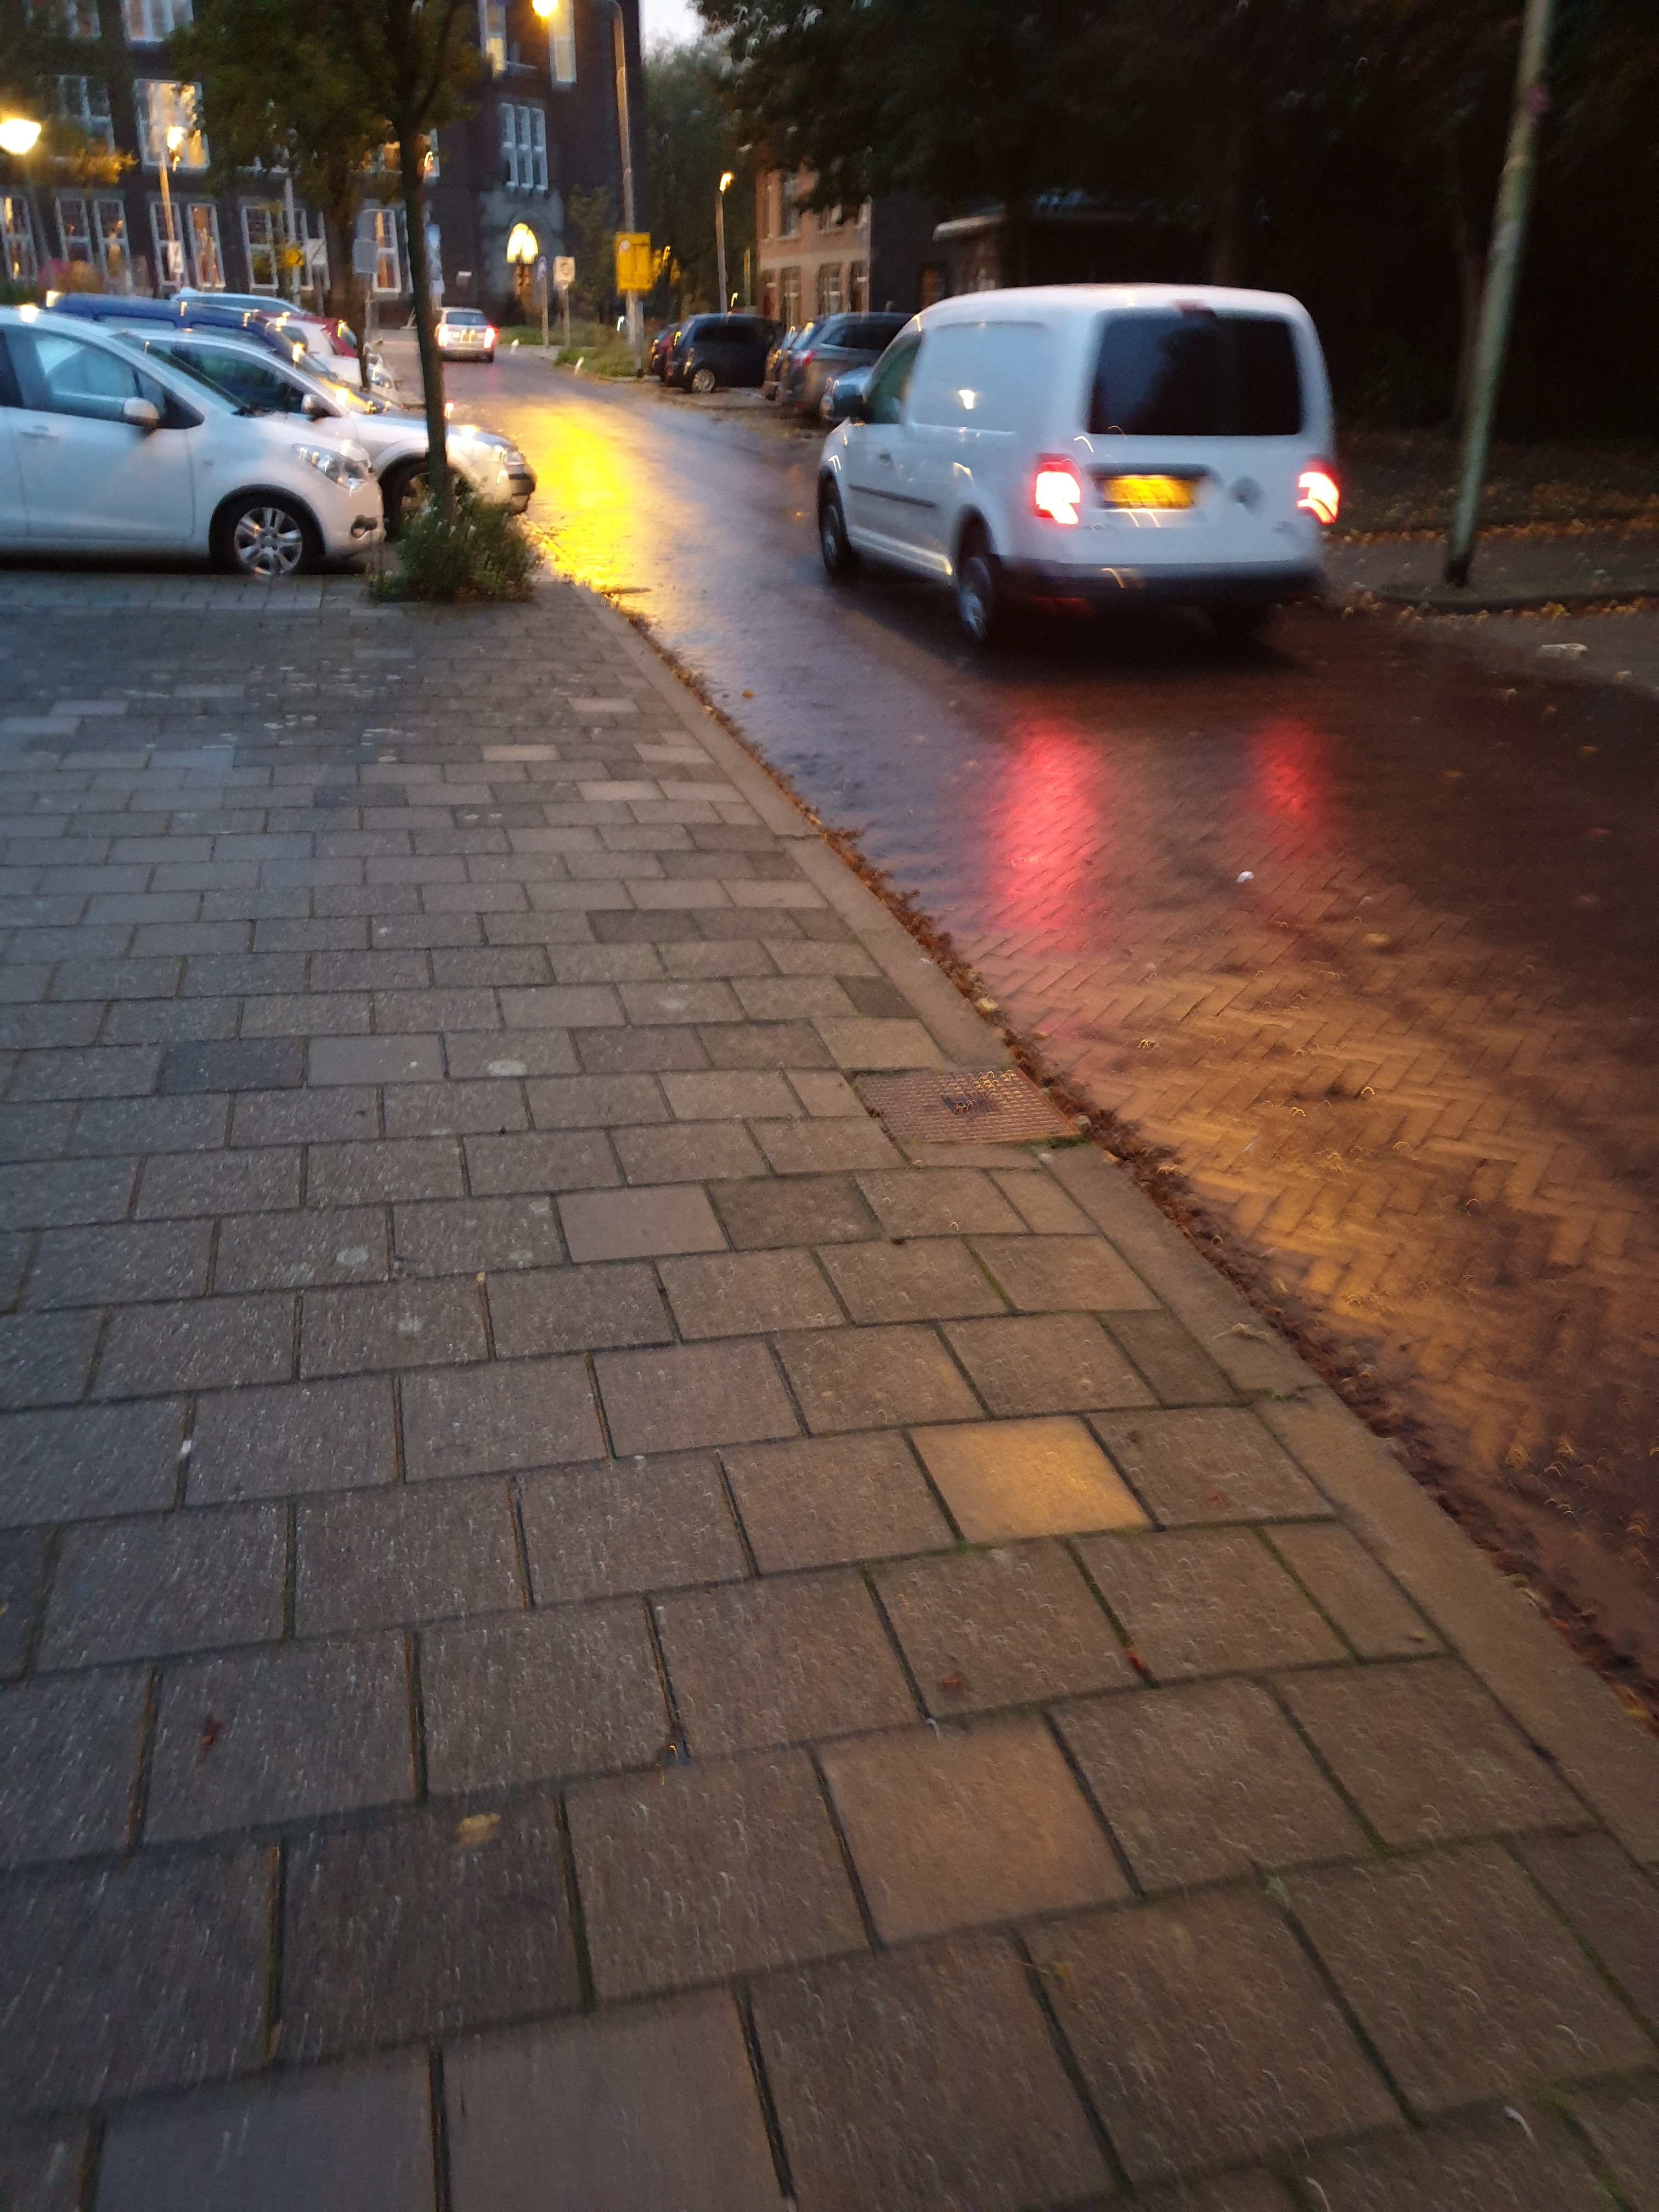car: (211, 427, 477, 1132)
